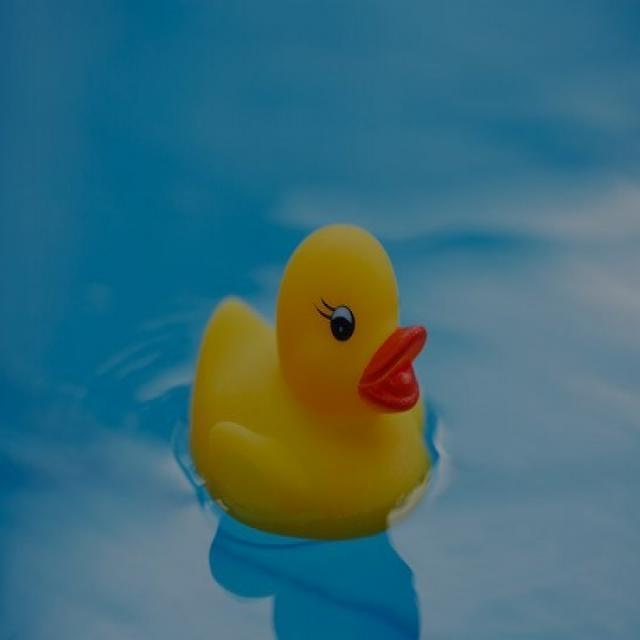rubber-duck: (190, 224, 428, 537)
